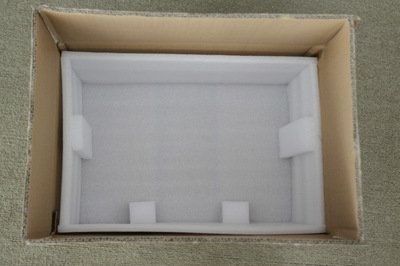5/可回收垃圾/泡沫: (57, 49, 327, 235)
